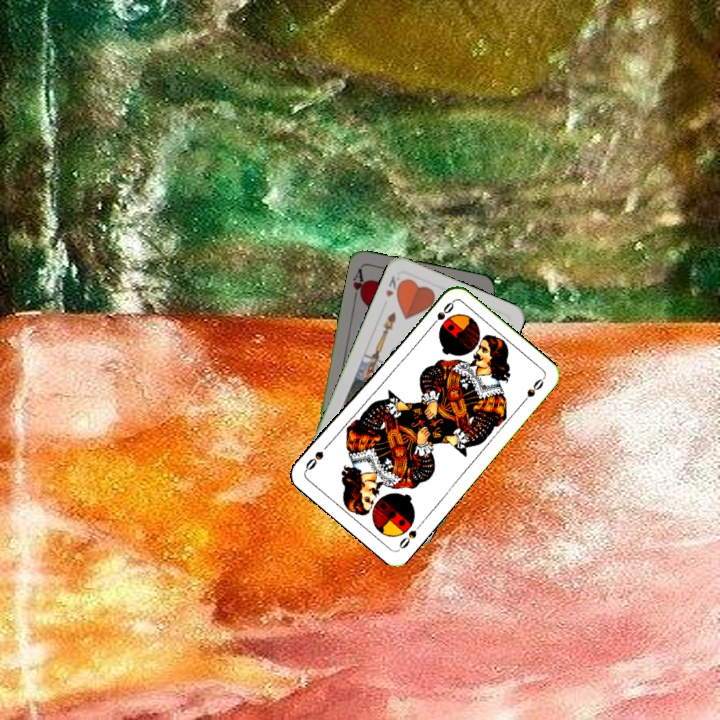HA: (349, 264, 369, 305)
HK: (381, 272, 405, 299)
SO: (425, 298, 456, 331), (395, 518, 425, 552)
